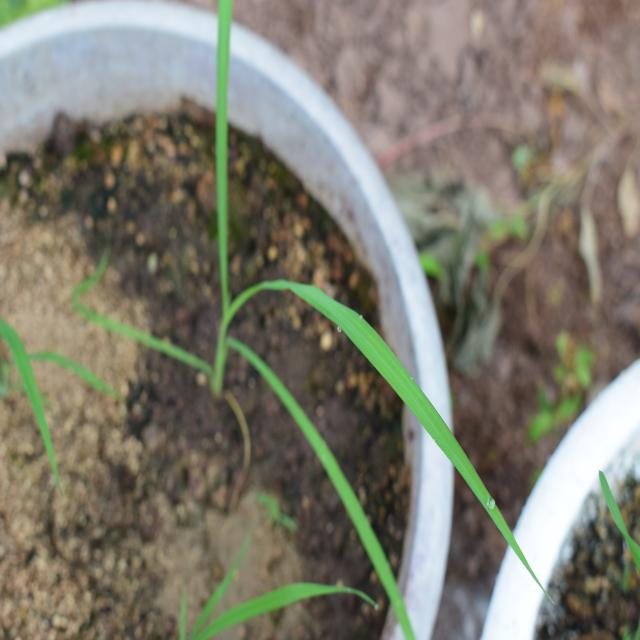barnyard_grass: (190, 14, 512, 598)
